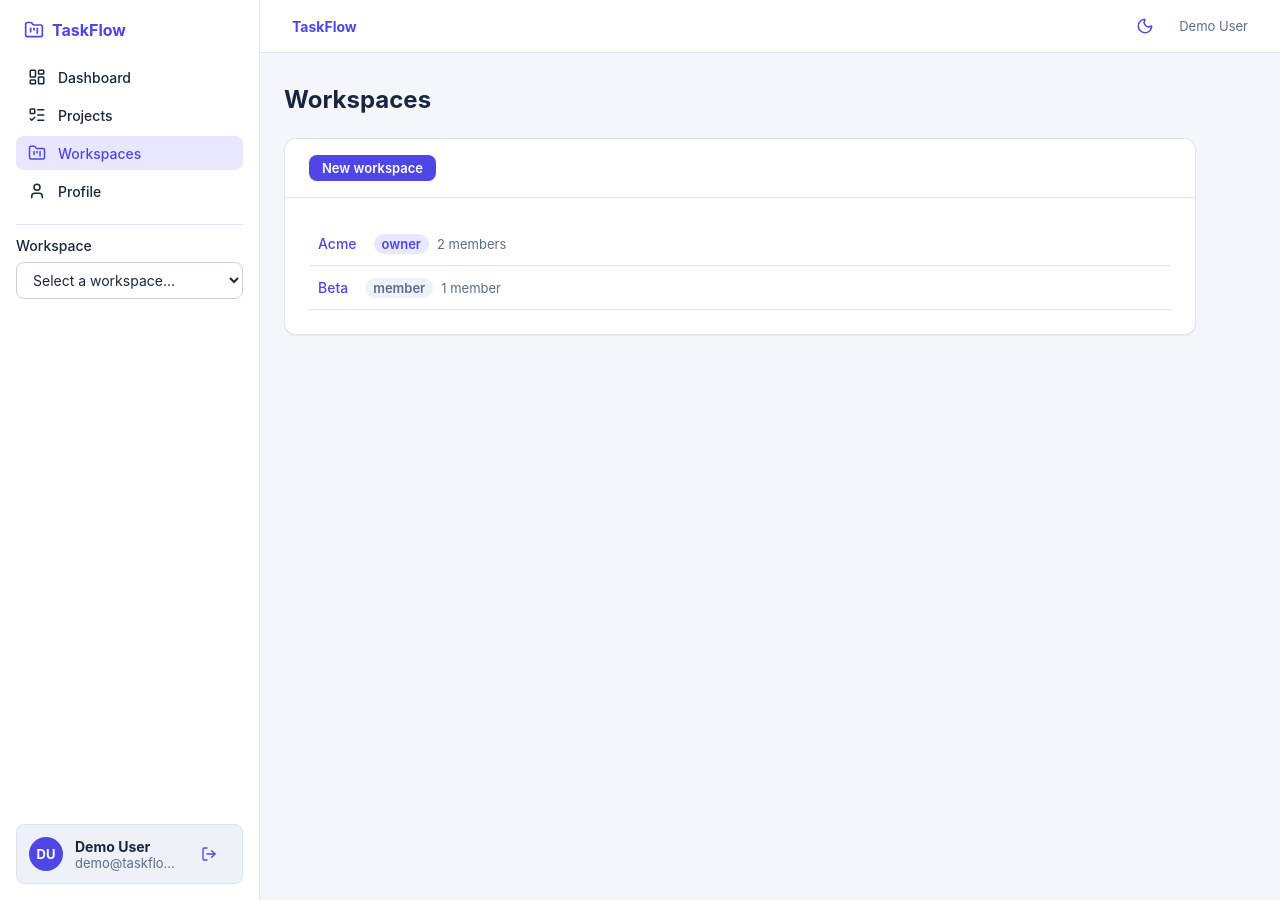
Test case: workspace-pane — "Delete uses an inline confirm and resets a dangling selection" (@w1) › two-step confirm deletes, closes the drawer and resets active selection
Click the button "Acme". click: (337, 244)
box: [309,230,366,257]
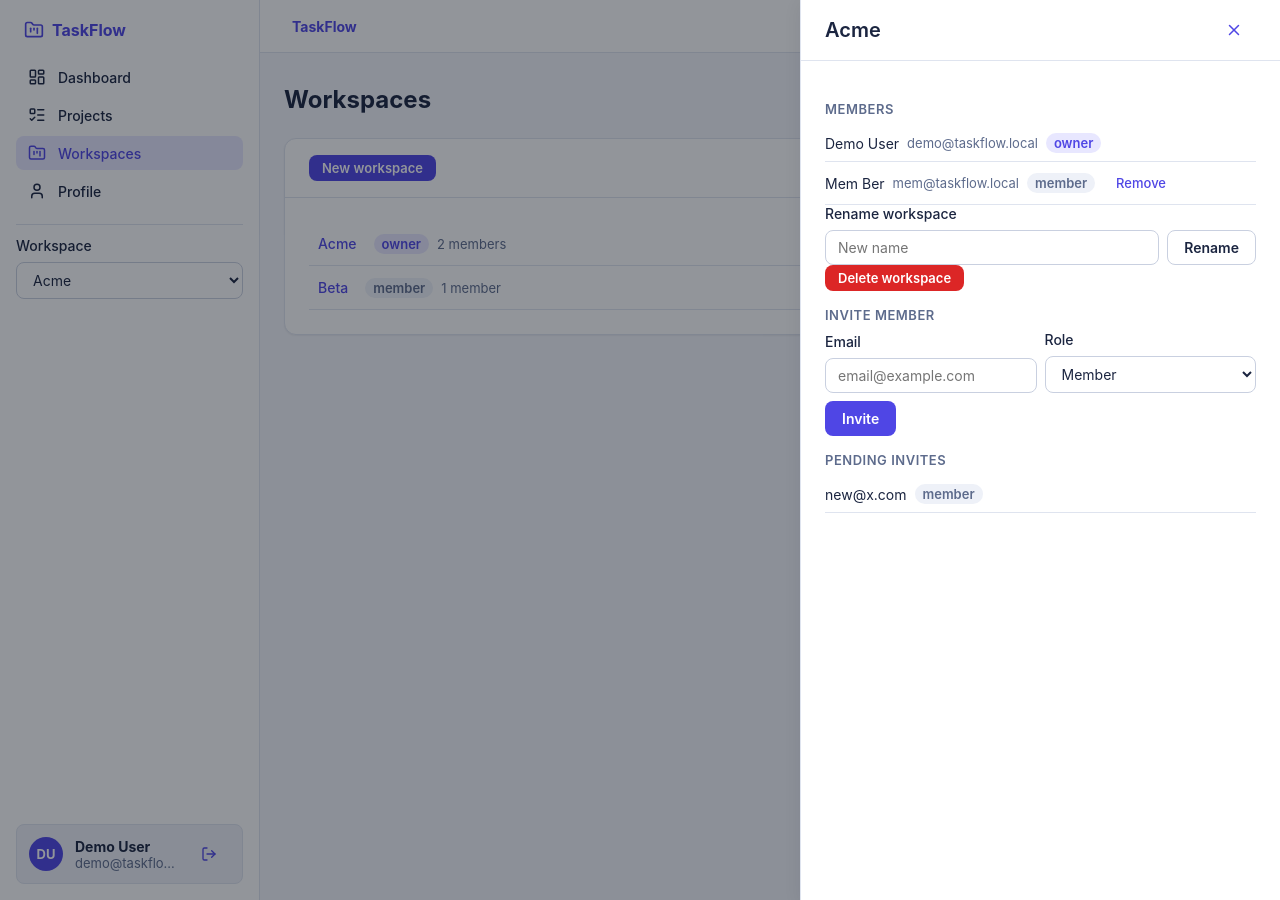
Expected: the list item "Mem Ber" is shown, [825,174,885,192]
Click the button "Delete workspace". click: (895, 278)
box: [825,265,964,291]
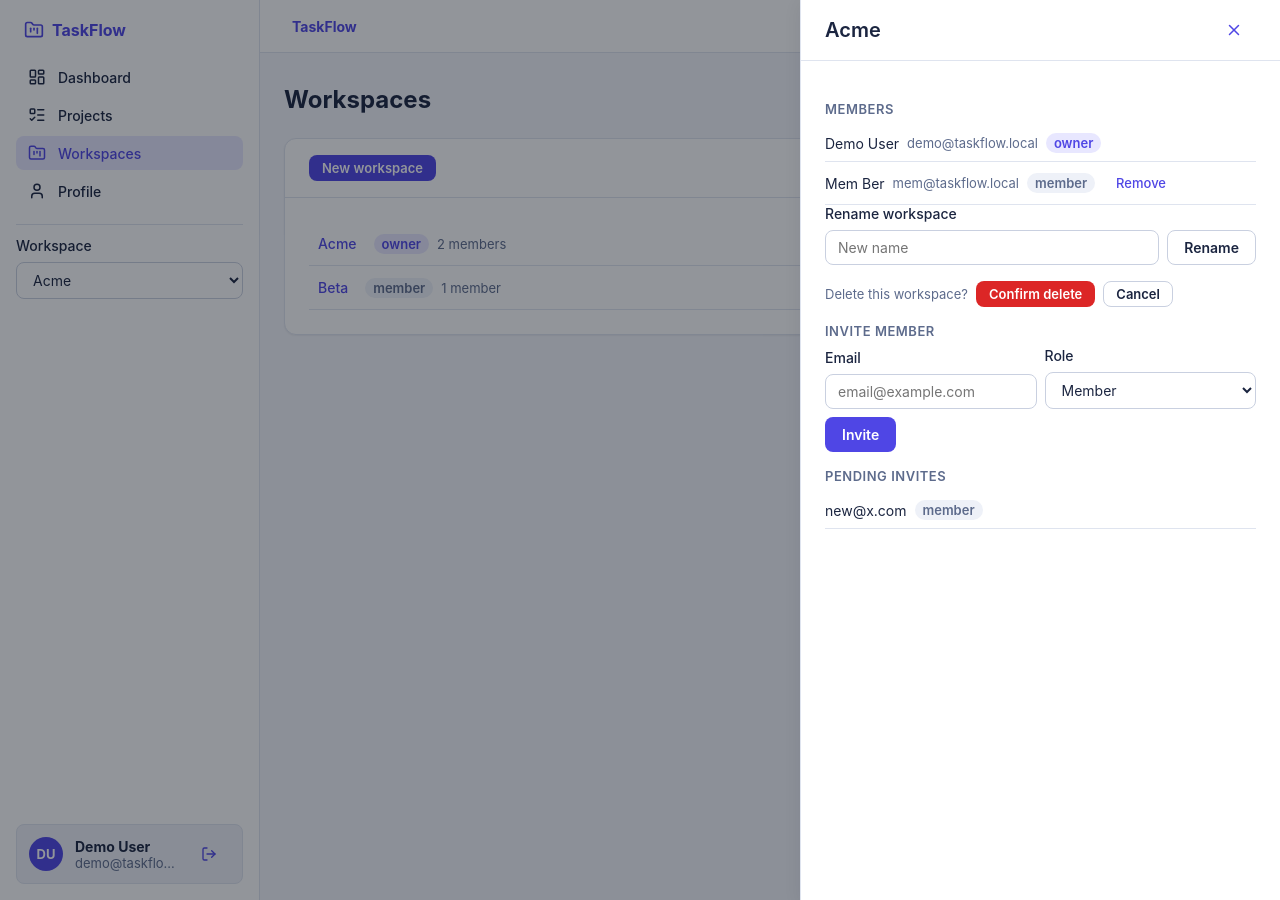
Click the button "Confirm delete". click: (1036, 294)
box: [976,281,1095,307]
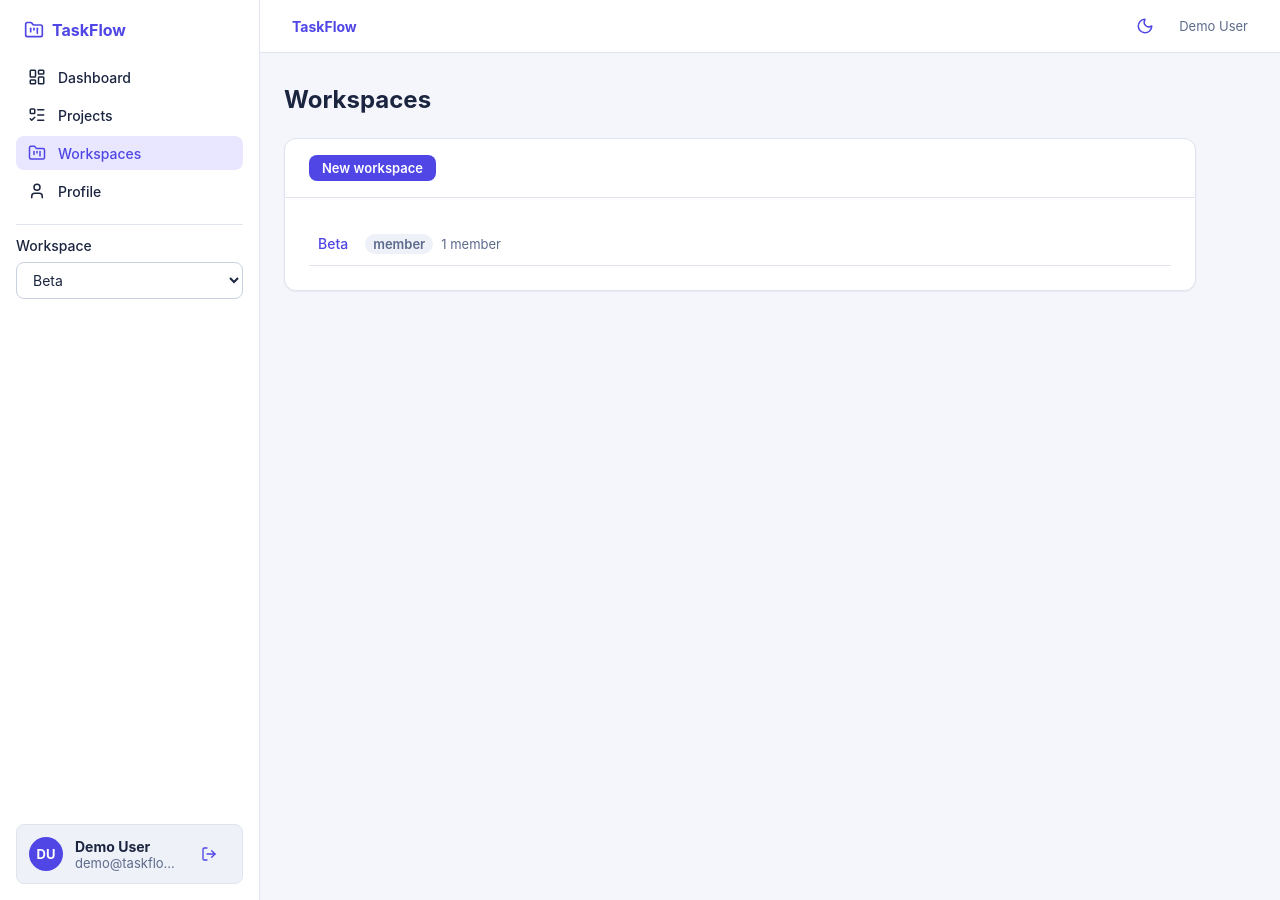
Expected: the dialog is gone
Expected: the button "Acme" is gone
